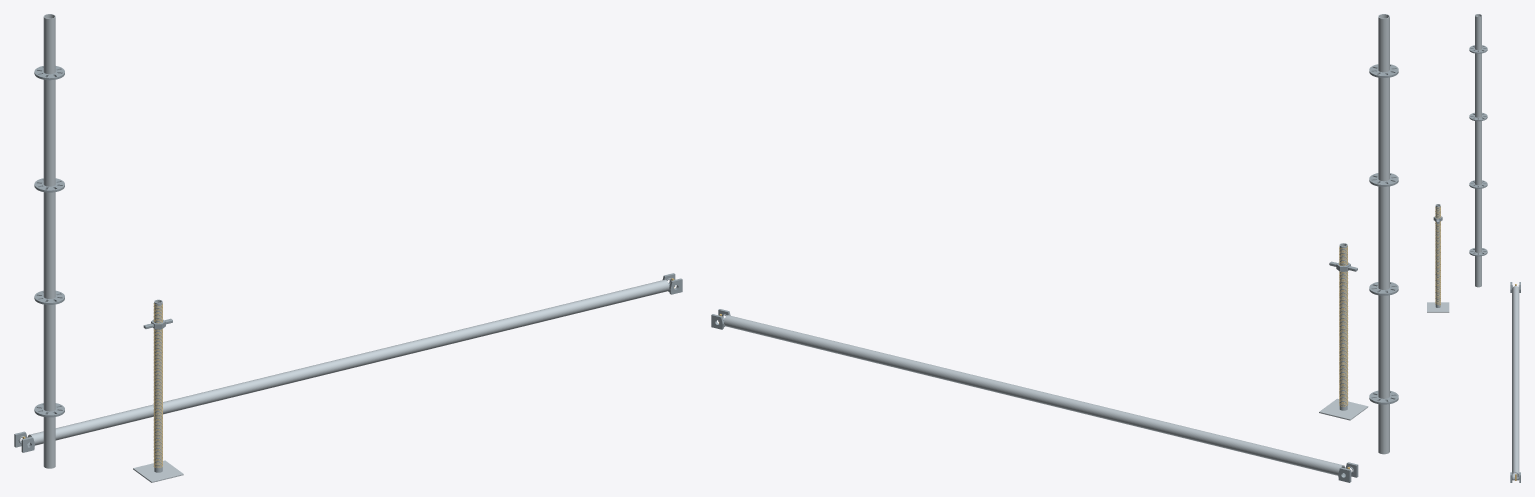
The model's file is Wellmade-Ringlock-3-components.glb.
3 renders of one model, left to right at view 1: azimuth 30°, elevation 25°; view 2: azimuth 150°, elevation 25°; view 3: azimuth 270°, elevation 25°, orthographic. The views are drawn at different scales.
Parts seen in each view (by area): view 1: Ledger tube Ø48.3 x 3.0, Standard tube Ø48.3 x 3.2, Jack hollow stem thread root OD34 ID26, Jack thread 4 TPI pitch 6.35; view 2: Ledger tube Ø48.3 x 3.0, Standard tube Ø48.3 x 3.2, Jack hollow stem thread root OD34 ID26, Jack thread 4 TPI pitch 6.35; view 3: Standard tube Ø48.3 x 3.2, Ledger tube Ø48.3 x 3.0, Jack hollow stem thread root OD34 ID26, Jack thread 4 TPI pitch 6.35, Base plate 150x150x6.
Part boxes in pixels (<box>): Ledger tube Ø48.3 x 3.0: <box>27,279,669,445</box>; Standard tube Ø48.3 x 3.2: <box>43,14,55,468</box>; Jack hollow stem thread root OD34 ID26: <box>154,299,162,472</box>; Jack thread 4 TPI pitch 6.35: <box>153,303,162,467</box>; Ledger tube Ø48.3 x 3.0: <box>724,315,1345,475</box>; Standard tube Ø48.3 x 3.2: <box>1378,14,1389,454</box>; Jack hollow stem thread root OD34 ID26: <box>1339,243,1347,410</box>; Jack thread 4 TPI pitch 6.35: <box>1339,246,1347,406</box>; Standard tube Ø48.3 x 3.2: <box>1475,14,1481,287</box>; Ledger tube Ø48.3 x 3.0: <box>1512,286,1519,477</box>; Jack hollow stem thread root OD34 ID26: <box>1435,204,1440,307</box>; Jack thread 4 TPI pitch 6.35: <box>1435,206,1440,305</box>; Base plate 150x150x6: <box>1427,302,1449,312</box>.
Size of the model in its own units: 3132 by 2028 by 630.
